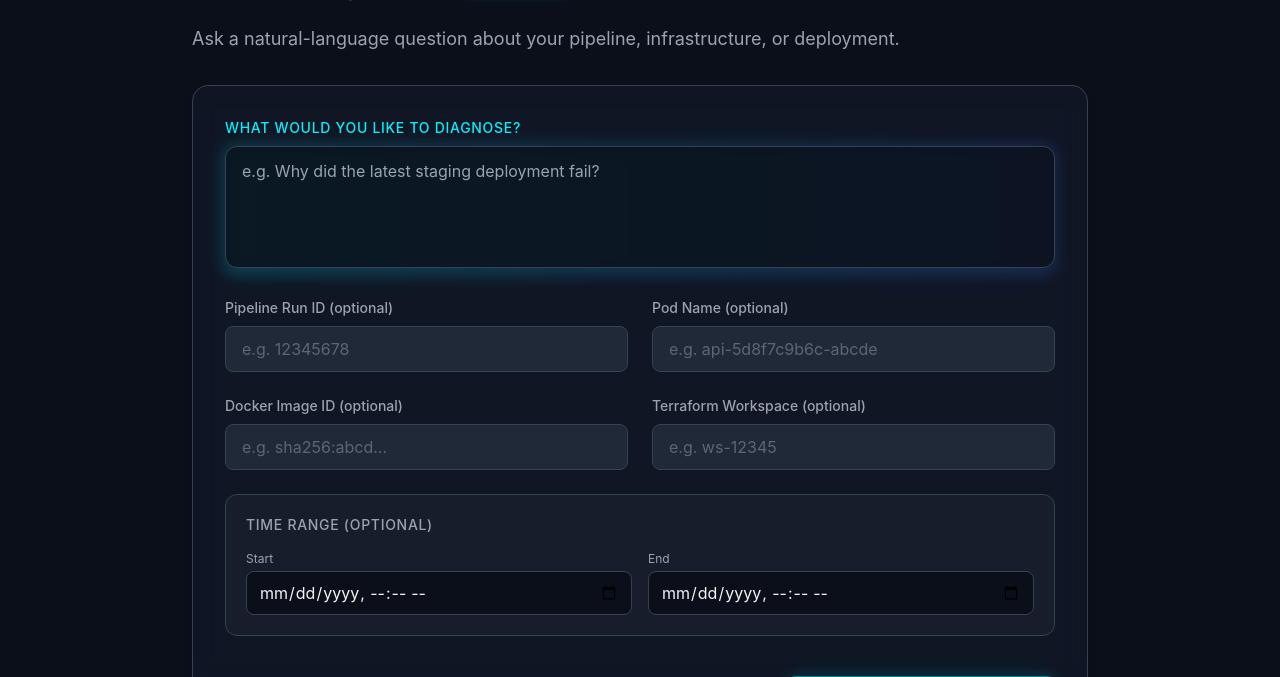
Test: AssistantScreen › shows loading state on submit
The image size is (1280, 677).
Type "Why did the build fail?" into the text box with placeholder "e.g. Why did the latest staging deployment fail?" at (640, 207), box x1=225 y1=146 x2=1055 y2=268
(page scrolled)
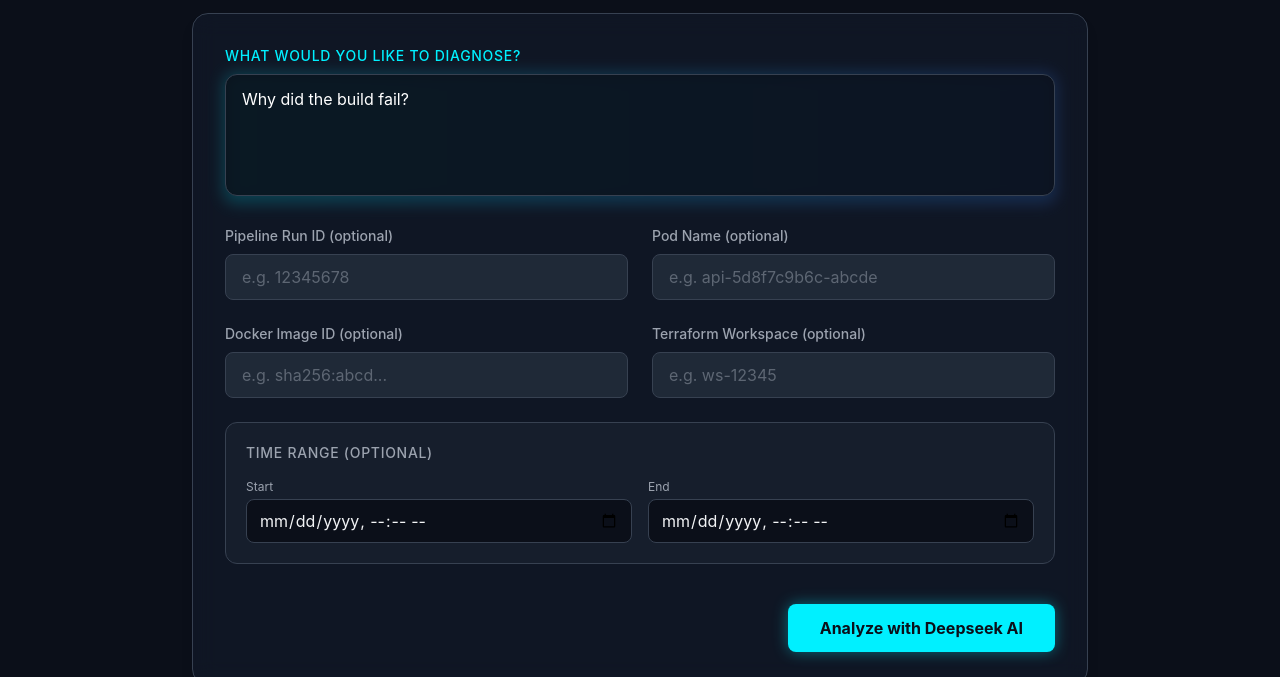
Click the button "Analyze with Deepseek AI" at (921, 628), box x1=788 y1=604 x2=1055 y2=652
(page scrolled)
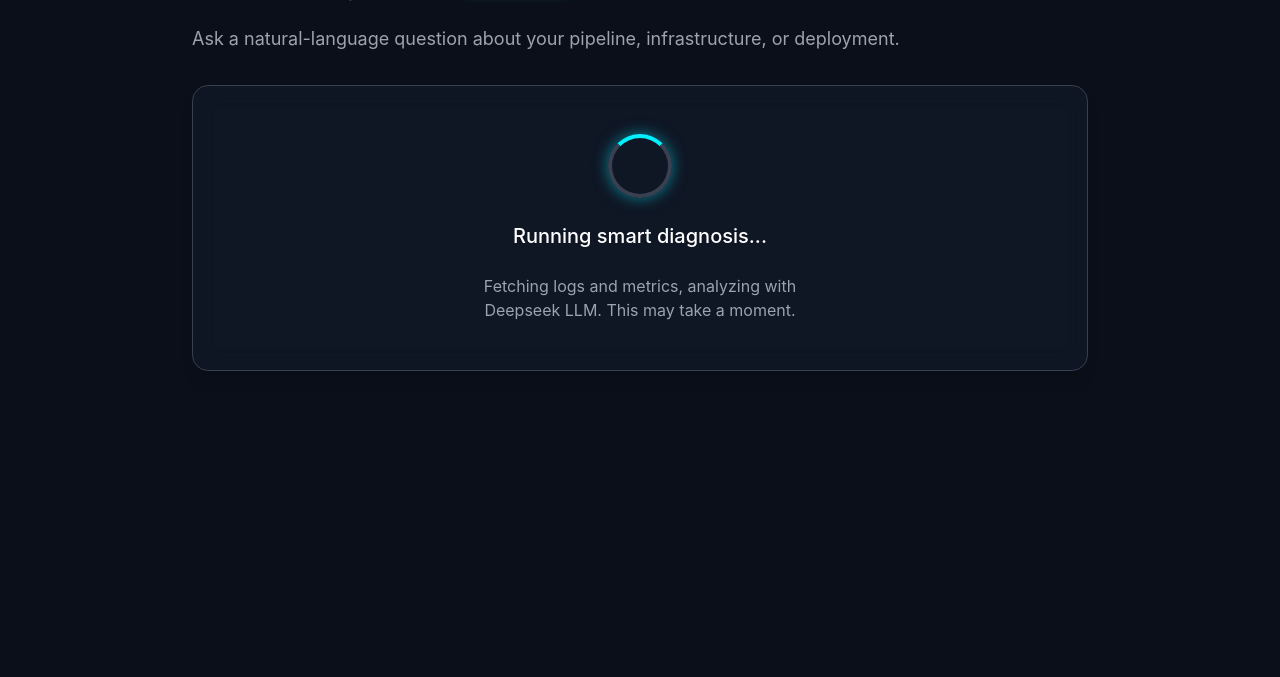
Now the text "Running smart diagnosis..." is shown, box x1=513 y1=222 x2=767 y2=250
